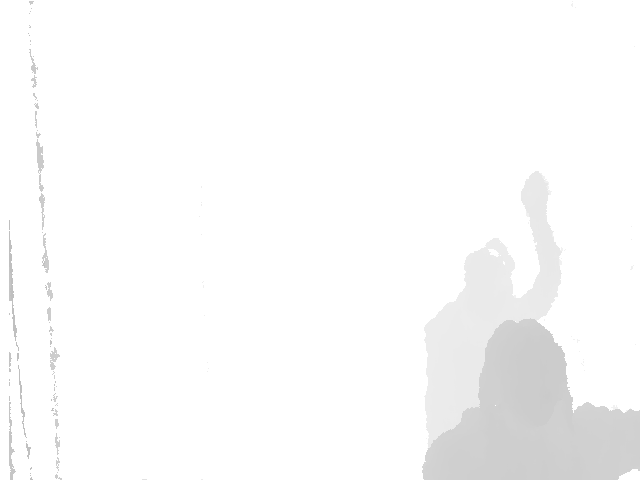hand: (521, 172, 550, 216)
head: (478, 319, 573, 430), (464, 238, 516, 308)
person: (421, 172, 565, 445), (419, 319, 640, 480)
